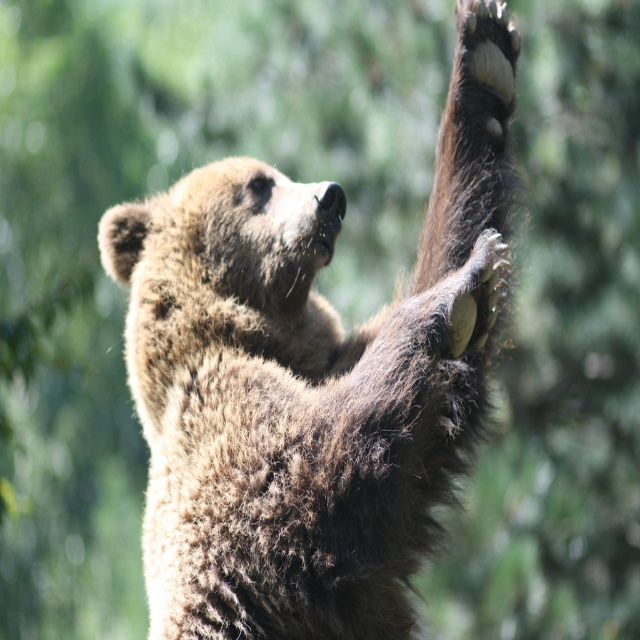Brown bear: (96, 0, 537, 640)
